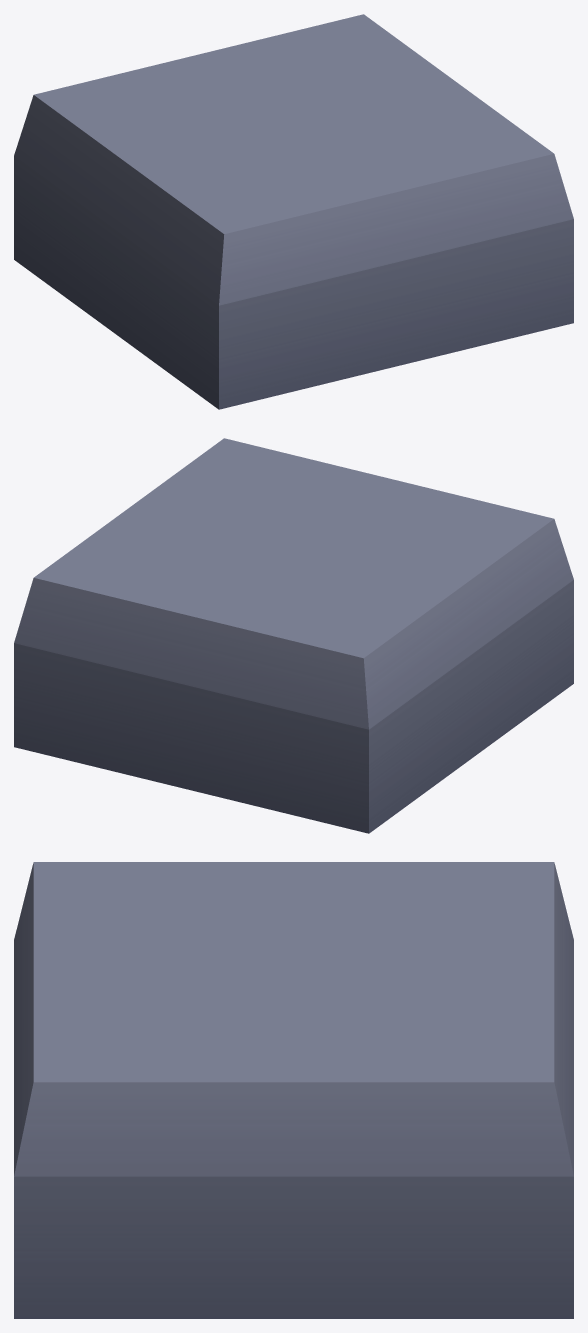
Rendered from tower-square-base-border.fbx.
The picture shows the model from 3 angles, top to bottom: view 1: azimuth 30°, elevation 25°; view 2: azimuth 150°, elevation 25°; view 3: azimuth 270°, elevation 25°; orthographic projection. The views are drawn at different scales.
Parts seen in each view (by area): view 1: tower-square-base-border; view 2: tower-square-base-border; view 3: tower-square-base-border.
Boxes of the visible parts, left/top/right/bottom form: tower-square-base-border: left=14, top=14, right=573, bottom=409; tower-square-base-border: left=14, top=438, right=573, bottom=833; tower-square-base-border: left=14, top=862, right=573, bottom=1318.
Size of the model in its own units: 1 by 1 by 0.45.
